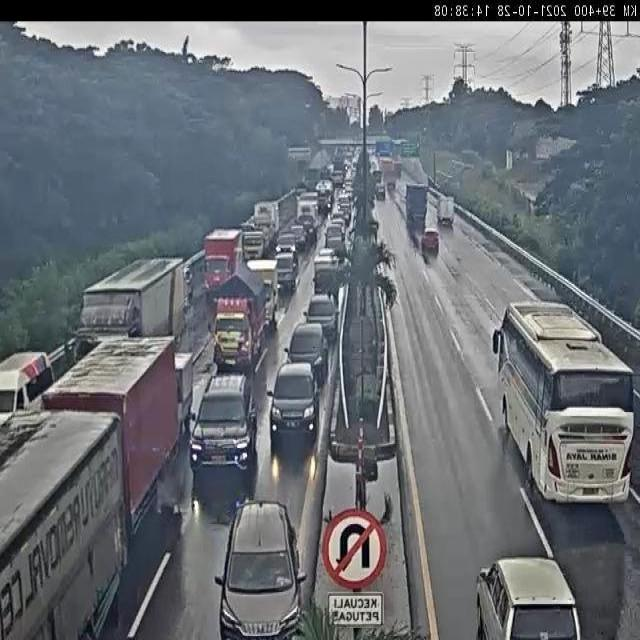Bus: (493, 302, 632, 500)
Car: (216, 498, 306, 638), (469, 547, 583, 640), (188, 372, 258, 473), (267, 360, 319, 447), (286, 322, 329, 388), (174, 351, 196, 440), (304, 293, 338, 344), (252, 202, 280, 250), (273, 246, 299, 293), (314, 250, 342, 293), (422, 223, 444, 260), (324, 223, 344, 252), (315, 179, 334, 209), (297, 212, 316, 242), (287, 225, 306, 254), (336, 189, 352, 220), (332, 162, 346, 187), (241, 222, 257, 242), (376, 182, 386, 200)
Truck: (0, 409, 130, 640), (74, 257, 190, 358), (202, 230, 246, 294), (405, 185, 429, 246), (438, 195, 454, 226)
Van: (1, 351, 54, 433)
